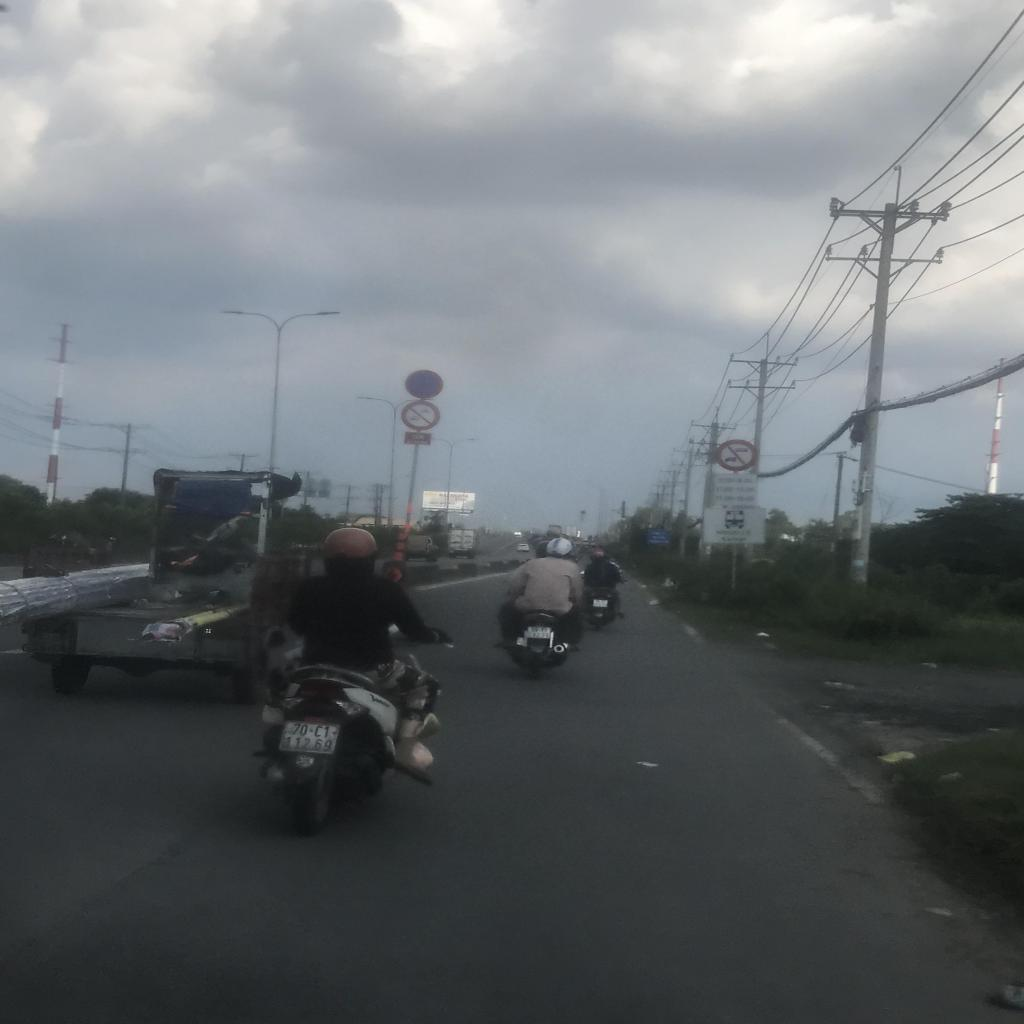cam_dung_xe_va_do_xe: (405, 369, 444, 398)
cam_o_to_tai_va_xe_khach: (714, 439, 758, 473)
cam_xe_2_banh_va_xe_3_banh_co_dong_co: (400, 401, 441, 430)
khac: (703, 508, 765, 542), (714, 474, 756, 505)
